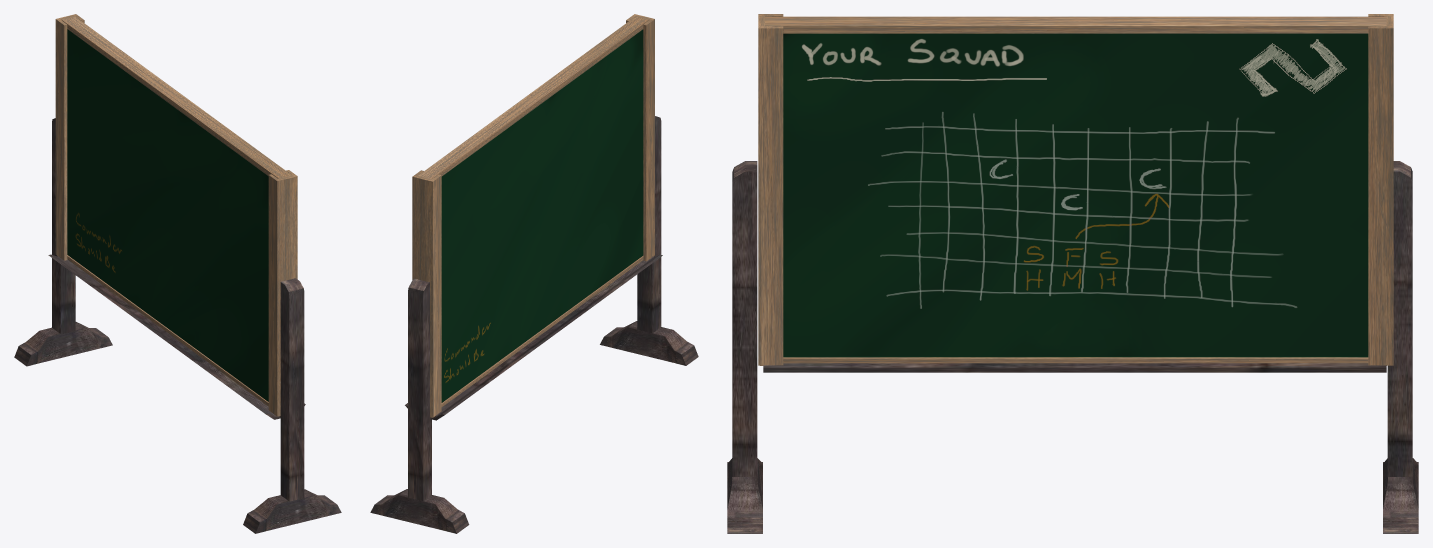
Rendered from chalkboard-1.glb.
3 views of the same model, side by side, from view 1: azimuth 30°, elevation 25°; view 2: azimuth 150°, elevation 25°; view 3: azimuth 270°, elevation 25° (orthographic). The views are drawn at different scales.
Visible parts, largest first — view 1: Cube, Cube.001, Cube.006, Cube.008, Cube.007, Cube.003, Cube.004, Cube.005, Cube.002, Cube.009; view 2: Cube, Cube.002, Cube.007, Cube.008, Cube.006, Cube.001, Cube.003, Cube.004, Cube.005, Cube.009; view 3: Cube, Cube.008, Cube.007, Cube.006, Cube.001, Cube.002, Cube.005, Cube.009, Cube.004, Cube.003.
Boxes of the visible parts, x1=… form: Cube: x1=67, y1=29, x2=268, y2=401; Cube.001: x1=280, y1=278, x2=304, y2=501; Cube.006: x1=268, y1=170, x2=297, y2=416; Cube.008: x1=62, y1=16, x2=291, y2=178; Cube.007: x1=55, y1=14, x2=84, y2=260; Cube.003: x1=243, y1=489, x2=341, y2=533; Cube.004: x1=14, y1=322, x2=112, y2=366; Cube.005: x1=48, y1=254, x2=305, y2=419; Cube.002: x1=52, y1=118, x2=75, y2=334; Cube.009: x1=67, y1=255, x2=280, y2=416; Cube: x1=441, y1=29, x2=643, y2=402; Cube.002: x1=408, y1=279, x2=431, y2=500; Cube.007: x1=412, y1=170, x2=441, y2=417; Cube.008: x1=418, y1=16, x2=648, y2=178; Cube.006: x1=626, y1=14, x2=654, y2=261; Cube.001: x1=637, y1=116, x2=661, y2=333; Cube.003: x1=600, y1=321, x2=698, y2=365; Cube.004: x1=370, y1=489, x2=469, y2=533; Cube.005: x1=405, y1=254, x2=662, y2=420; Cube.009: x1=441, y1=256, x2=643, y2=407; Cube: x1=783, y1=33, x2=1368, y2=357; Cube.008: x1=765, y1=16, x2=1386, y2=33; Cube.007: x1=1368, y1=14, x2=1393, y2=365; Cube.006: x1=758, y1=14, x2=783, y2=365; Cube.001: x1=732, y1=161, x2=757, y2=476; Cube.002: x1=1387, y1=161, x2=1412, y2=476; Cube.005: x1=763, y1=363, x2=1386, y2=372; Cube.009: x1=760, y1=357, x2=1368, y2=365; Cube.004: x1=1383, y1=458, x2=1418, y2=533; Cube.003: x1=727, y1=458, x2=762, y2=533.
Bounding box in the file's own units: 0.3987 × 1.49 × 1.93.
3 materials, 3 textured.
